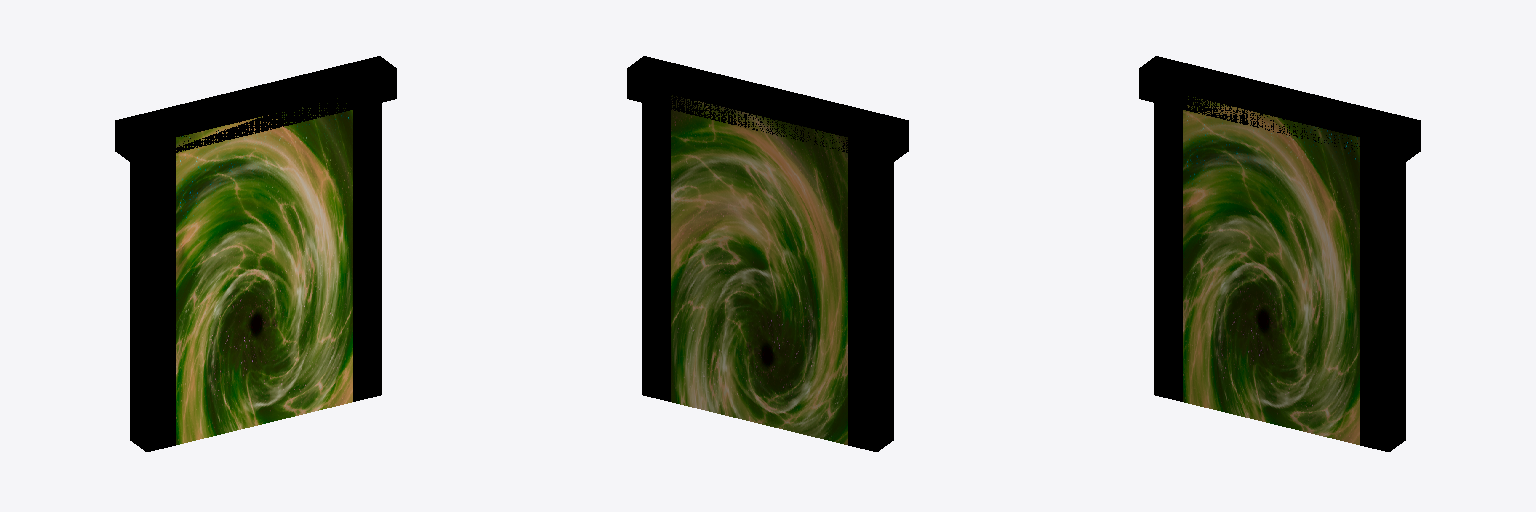
3 views of the same model, side by side, from view 1: azimuth 30°, elevation 25°; view 2: azimuth 150°, elevation 25°; view 3: azimuth 330°, elevation 25° (orthographic).
Parts seen in each view (by area): view 1: pCube3, pCube5, pCube4, pCube6; view 2: pCube3, pCube5, pCube4, pCube6; view 3: pCube3, pCube6, pCube4, pCube5.
Part boxes in pixels (x1,y1,x2,y2): pCube3: (176, 98, 352, 444); pCube5: (130, 138, 175, 451); pCube4: (115, 56, 396, 163); pCube6: (353, 87, 381, 401); pCube3: (671, 95, 847, 444); pCube5: (848, 138, 893, 451); pCube4: (627, 56, 908, 163); pCube6: (642, 87, 670, 401); pCube3: (1183, 96, 1359, 444); pCube6: (1360, 138, 1405, 451); pCube4: (1139, 56, 1420, 163); pCube5: (1154, 87, 1182, 401).
Bounding box in the file's own units: 9 × 10.5 × 1.
Materials: 2 (1 with a texture image).